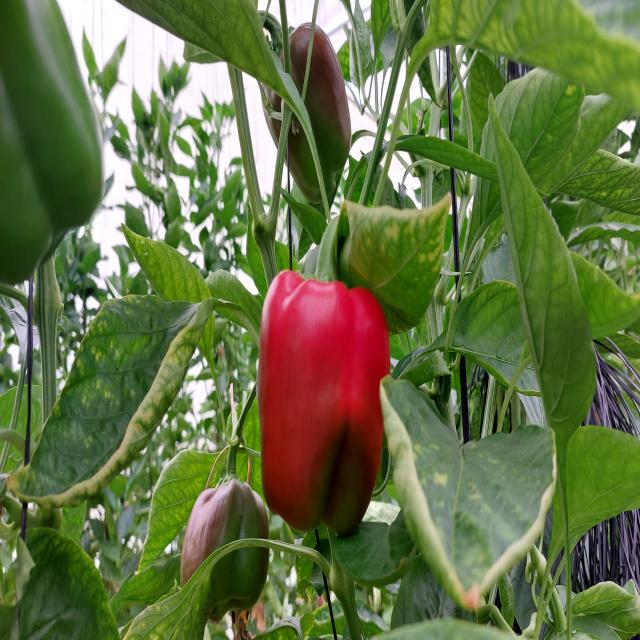BrownishRed--Can-be-Harvested: (259, 15, 364, 211)
Red-Ready-to-Harvest: (257, 253, 385, 543)
